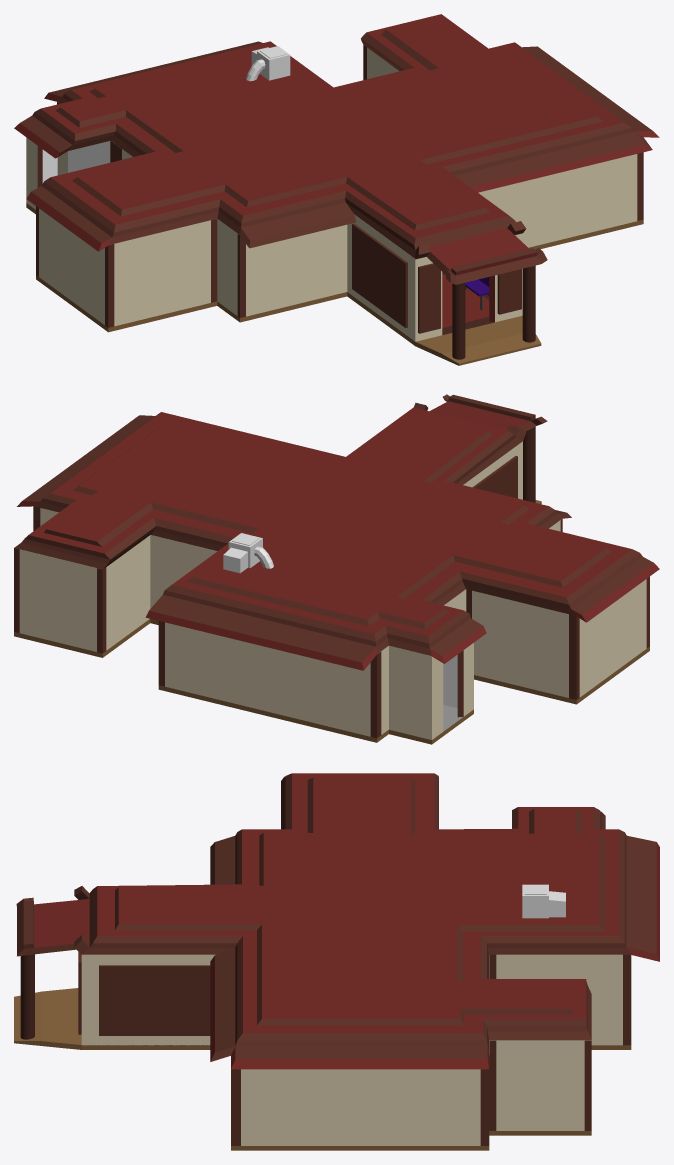
Rendered from Restaurant.fbx.
3 views of the same model, one above another, from view 1: azimuth 30°, elevation 25°; view 2: azimuth 150°, elevation 25°; view 3: azimuth 270°, elevation 25° (orthographic). The views are drawn at different scales.
Parts seen in each view (by area): view 1: Roof, Walls, Floor, AC Unit, Cylinder.001, Cylinder; view 2: Roof, Walls, Floor, AC Unit, Cylinder.001; view 3: Roof, Walls, Floor, AC Unit, Cylinder.
Part boxes in pixels (x1,y1,x2,y2): Roof: (14,14,659,284); Walls: (26,45,643,341); Floor: (26,203,643,365); AC Unit: (246,46,290,81); Cylinder.001: (452,283,465,359); Cylinder: (522,265,535,342); Roof: (14,394,659,670); Walls: (14,441,649,739); Floor: (14,500,649,744); AC Unit: (223,533,273,573); Cylinder.001: (523,426,535,502); Roof: (16,773,659,1069); Walls: (78,952,631,1145); Floor: (14,988,631,1150); AC Unit: (522,884,565,918); Cylinder: (20,954,34,1039).
Size of the model in its own units: 2001 by 448 by 1900.
